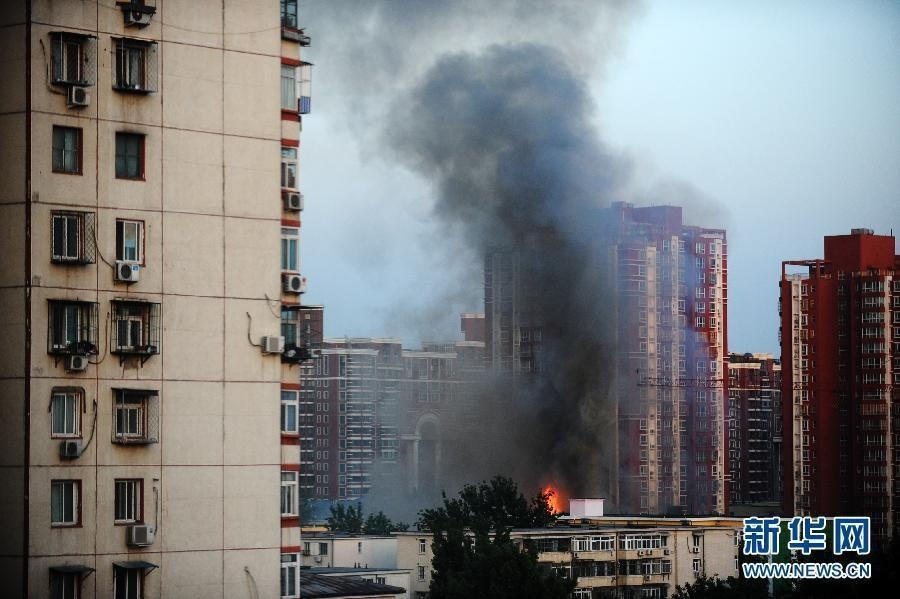fire: (538, 481, 570, 515)
